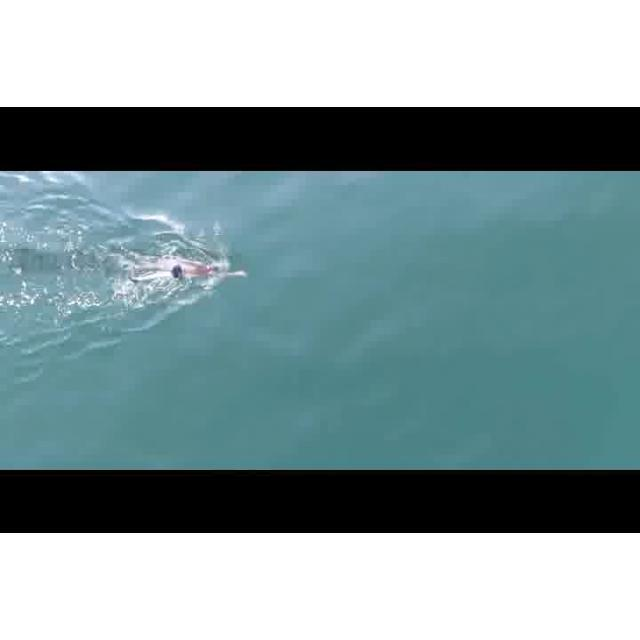human: (122, 257, 253, 286)
